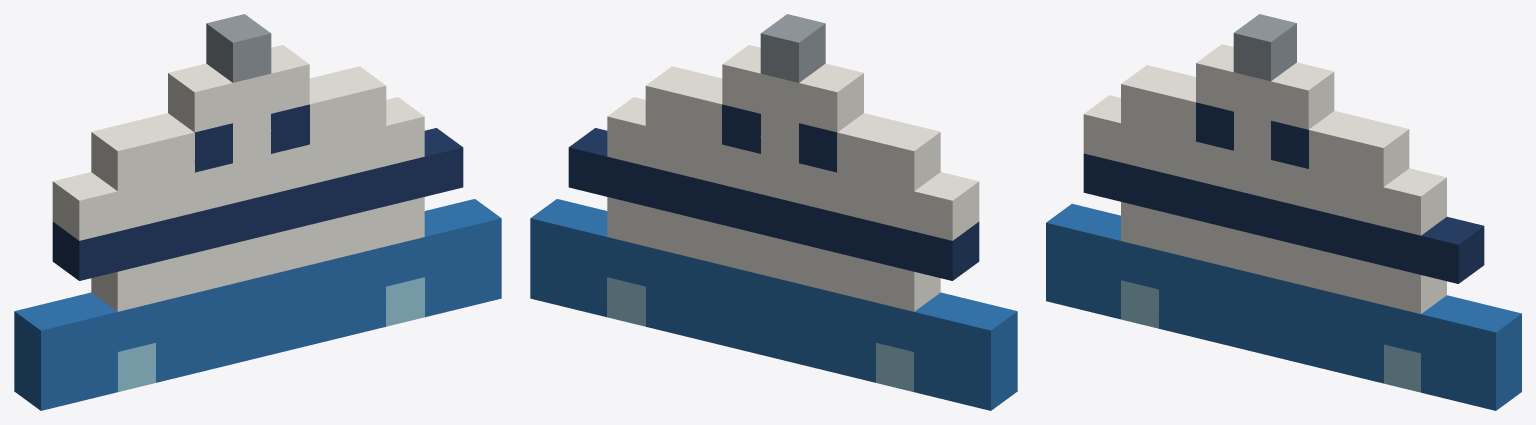
The model's file is magnet_ferry.glb.
3 renders of one model, left to right at view 1: azimuth 30°, elevation 25°; view 2: azimuth 150°, elevation 25°; view 3: azimuth 330°, elevation 25°, orthographic. The views are drawn at different scales.
Parts seen in each view (by area): view 1: Magnet_ferry; view 2: Magnet_ferry; view 3: Magnet_ferry.
Part boxes in pixels (x1,y1,x2,y2): Magnet_ferry: [14, 14, 501, 410]; Magnet_ferry: [530, 14, 1017, 410]; Magnet_ferry: [1046, 14, 1521, 410].
Size of the model in its own units: 0.06 by 0.04 by 0.006.
1 material, 1 textured.
